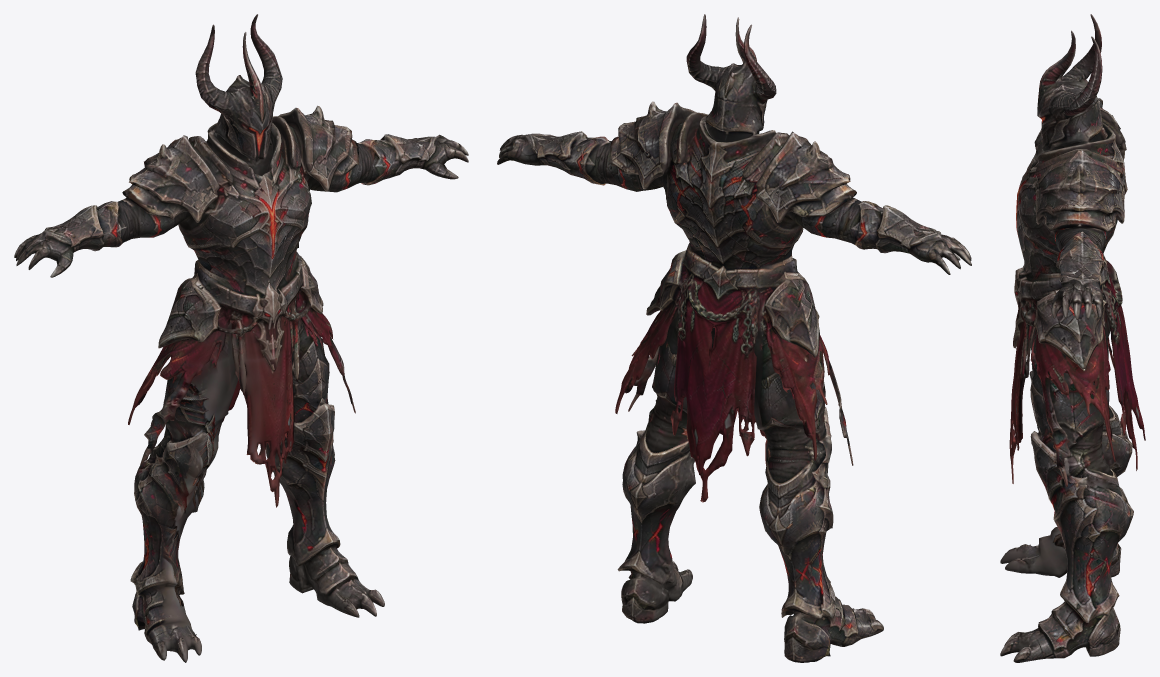
File: tripo_convert_993d6269-8646-411e-9914-425a84ee6dfc.fbx
3 renders of one model, left to right at view 1: azimuth 30°, elevation 25°; view 2: azimuth 150°, elevation 25°; view 3: azimuth 270°, elevation 25°, orthographic. The views are drawn at different scales.
Parts seen in each view (by area): view 1: tripo_node_993d6269; view 2: tripo_node_993d6269; view 3: tripo_node_993d6269.
Boxes of the visible parts, left/top/right/bottom form: tripo_node_993d6269: left=14, top=14, right=468, bottom=662; tripo_node_993d6269: left=497, top=14, right=971, bottom=662; tripo_node_993d6269: left=1000, top=14, right=1145, bottom=662.
Size of the model in its own units: 0.7848 by 0.9752 by 0.2196.
Materials: 1 (1 with a texture image).
